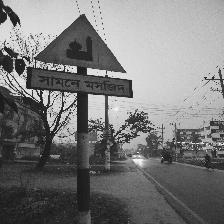Mosque in front: (29, 14, 133, 100)
